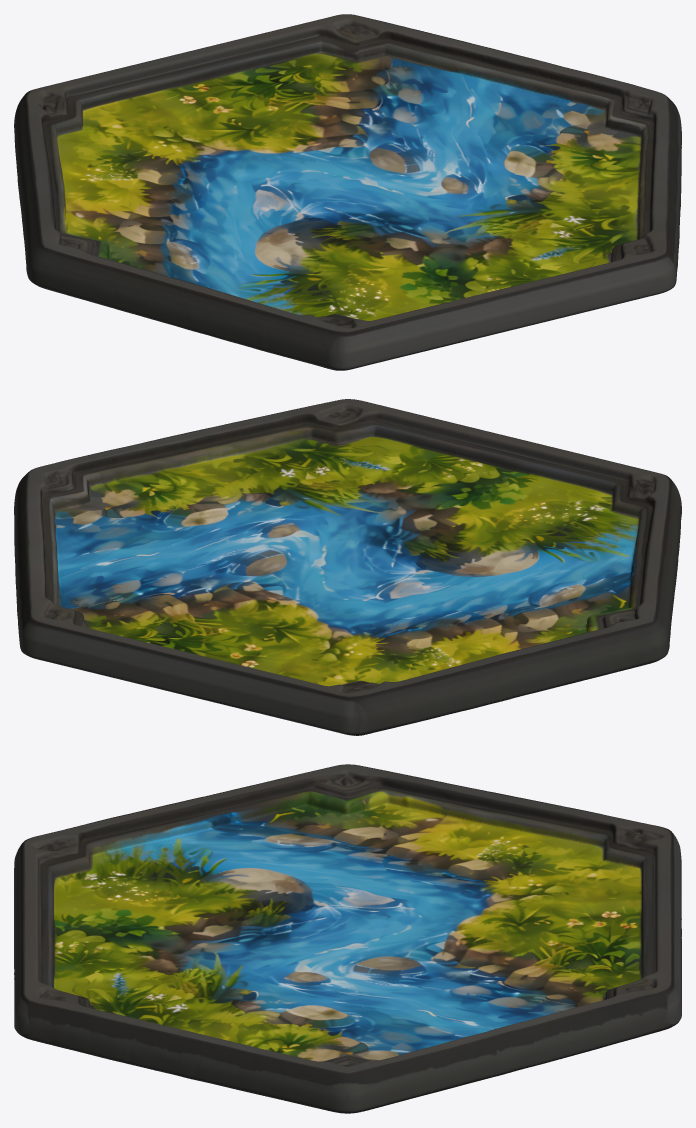
Rendered from river_grade_1.glb.
3 renders of one model, top to bottom at view 1: azimuth 30°, elevation 25°; view 2: azimuth 150°, elevation 25°; view 3: azimuth 270°, elevation 25°, orthographic.
Parts seen in each view (by area): view 1: tripo_node_20fe4d17-f17e-44e2-abc7-d4acad37543c; view 2: tripo_node_20fe4d17-f17e-44e2-abc7-d4acad37543c; view 3: tripo_node_20fe4d17-f17e-44e2-abc7-d4acad37543c.
Boxes of the visible parts, x1,y1,x2,y2 form: tripo_node_20fe4d17-f17e-44e2-abc7-d4acad37543c: (14, 14, 681, 370); tripo_node_20fe4d17-f17e-44e2-abc7-d4acad37543c: (14, 399, 681, 735); tripo_node_20fe4d17-f17e-44e2-abc7-d4acad37543c: (14, 764, 681, 1113).
Bounding box in the file's own units: 1 × 0.0685 × 0.8795.
Materials: 1 (1 with a texture image).
